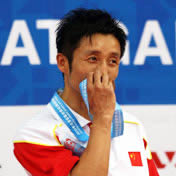face: (72, 34, 120, 95)
